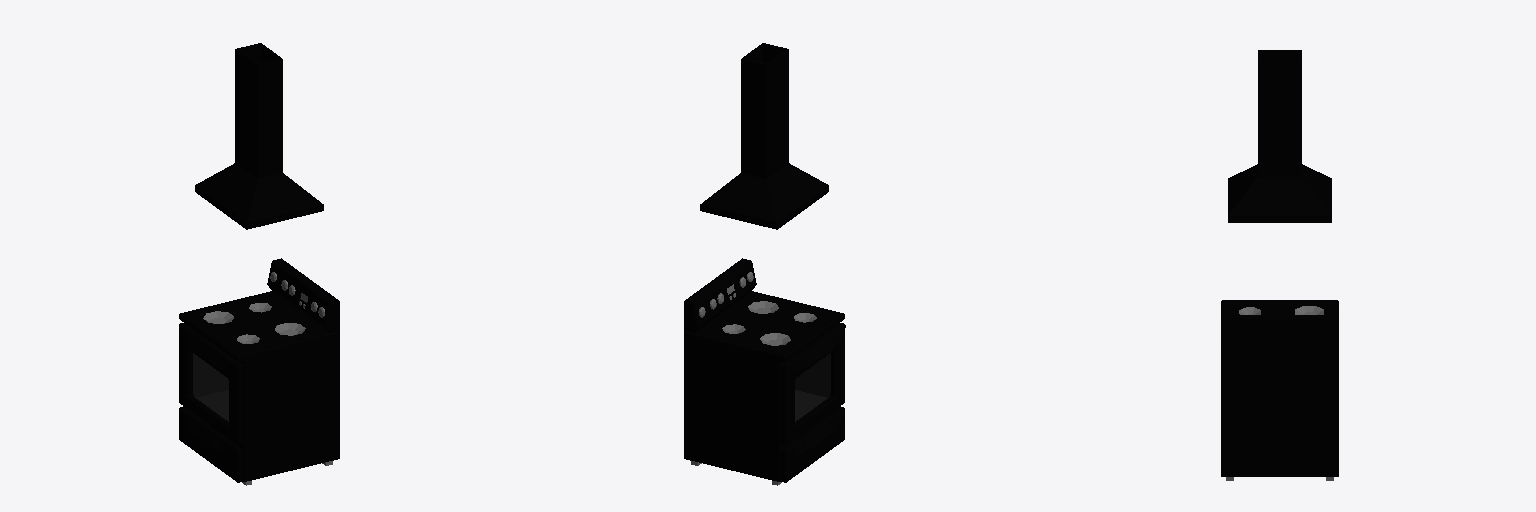
The model's file is Oven.obj.
3 renders of one model, left to right at view 1: azimuth 30°, elevation 25°; view 2: azimuth 150°, elevation 25°; view 3: azimuth 270°, elevation 25°, orthographic.
Visible parts, largest first — view 1: mergedBlocks; view 2: mergedBlocks; view 3: mergedBlocks.
Boxes of the visible parts, x1,y1,x2,y2 form: mergedBlocks: [179, 43, 339, 485]; mergedBlocks: [684, 43, 845, 485]; mergedBlocks: [1221, 50, 1338, 480].
Size of the model in its own units: 0.8505 by 3 by 0.8.